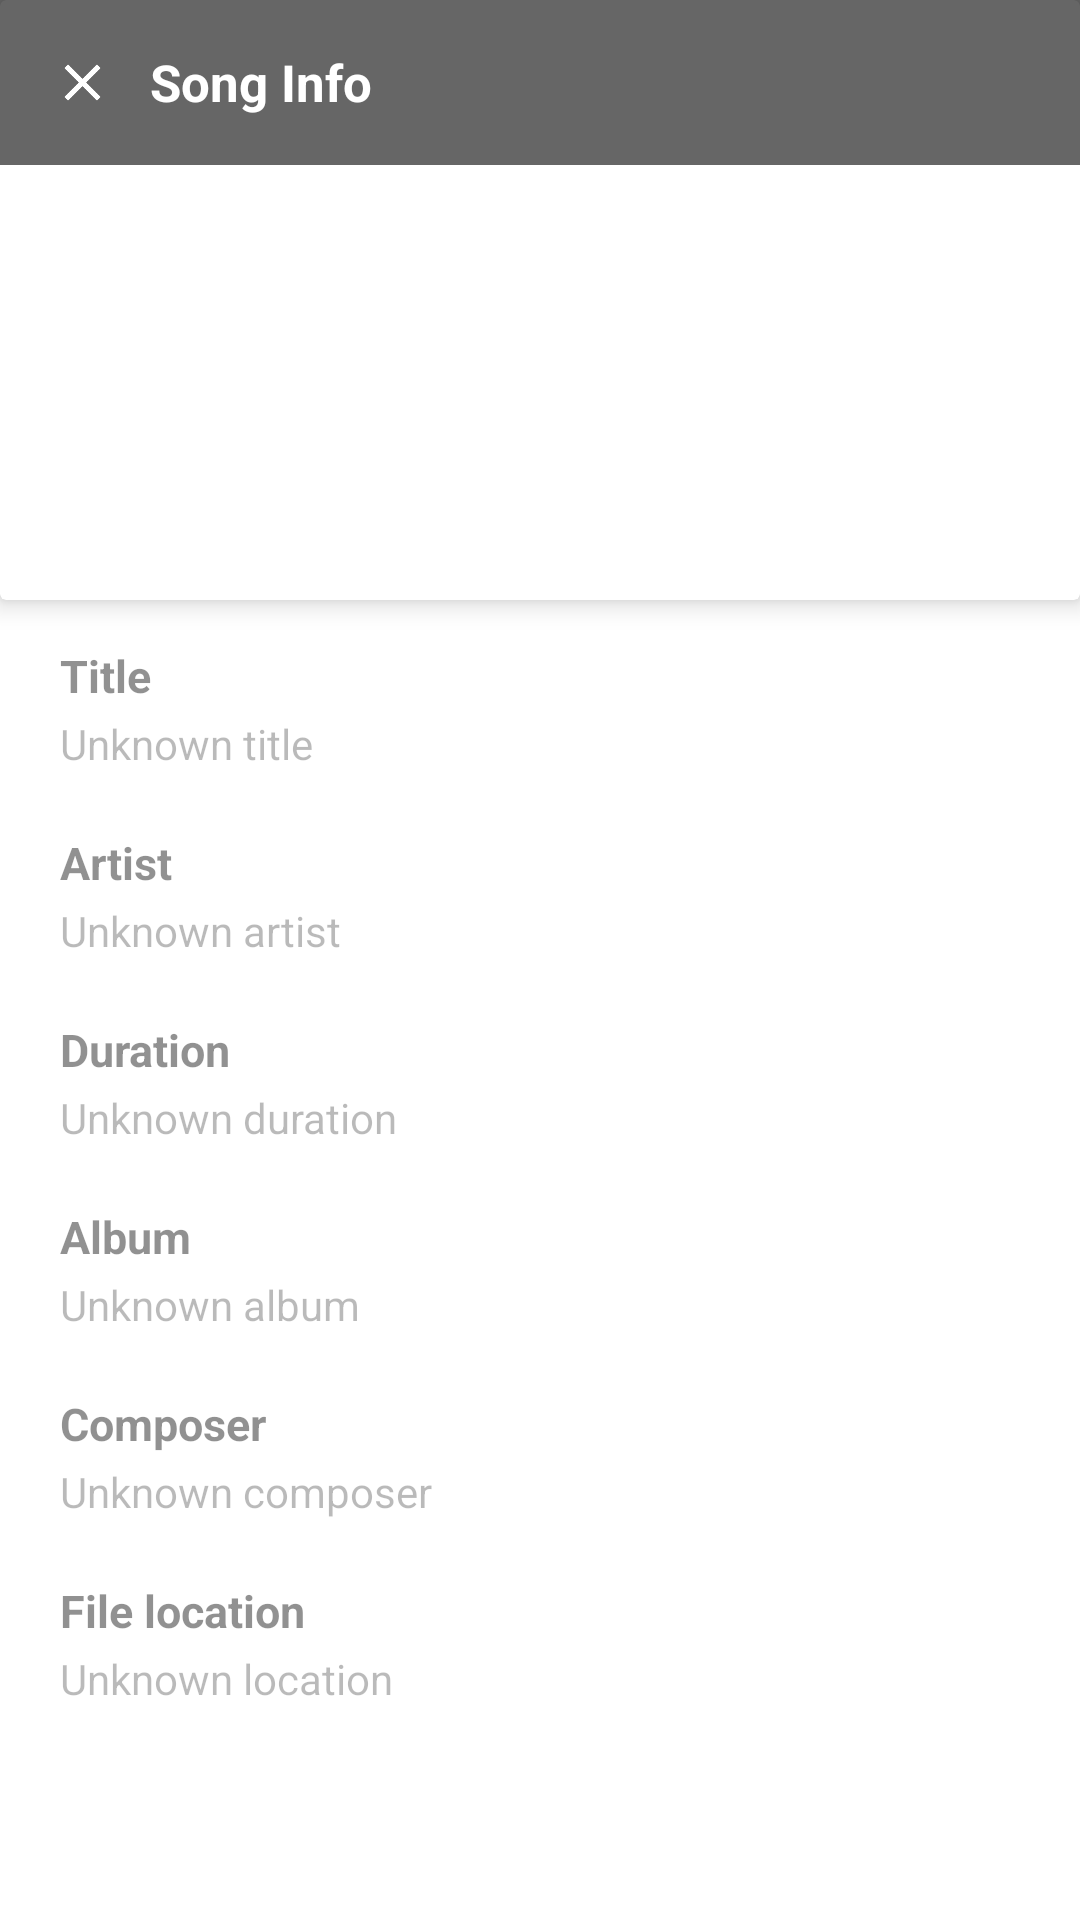

Icon bounding boxes for this 1080px×1920px phone screenshot, format (x1, y1, x2, y2):
close: (65, 65, 100, 100)
